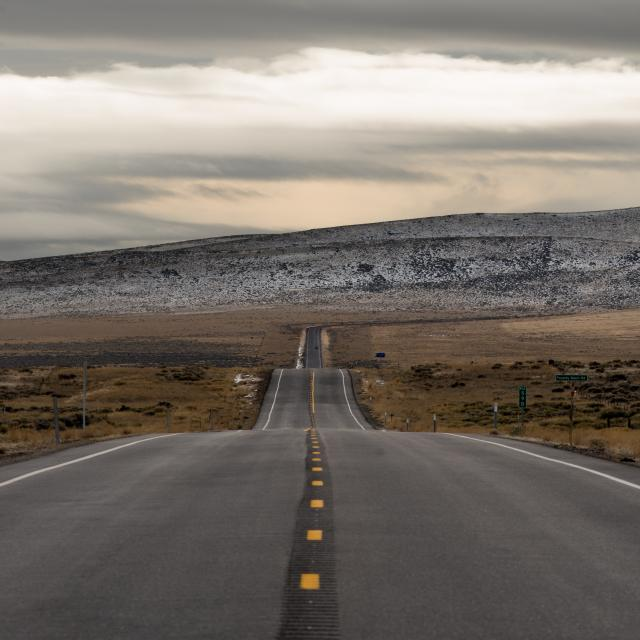Concrete: (0, 326, 640, 640)
